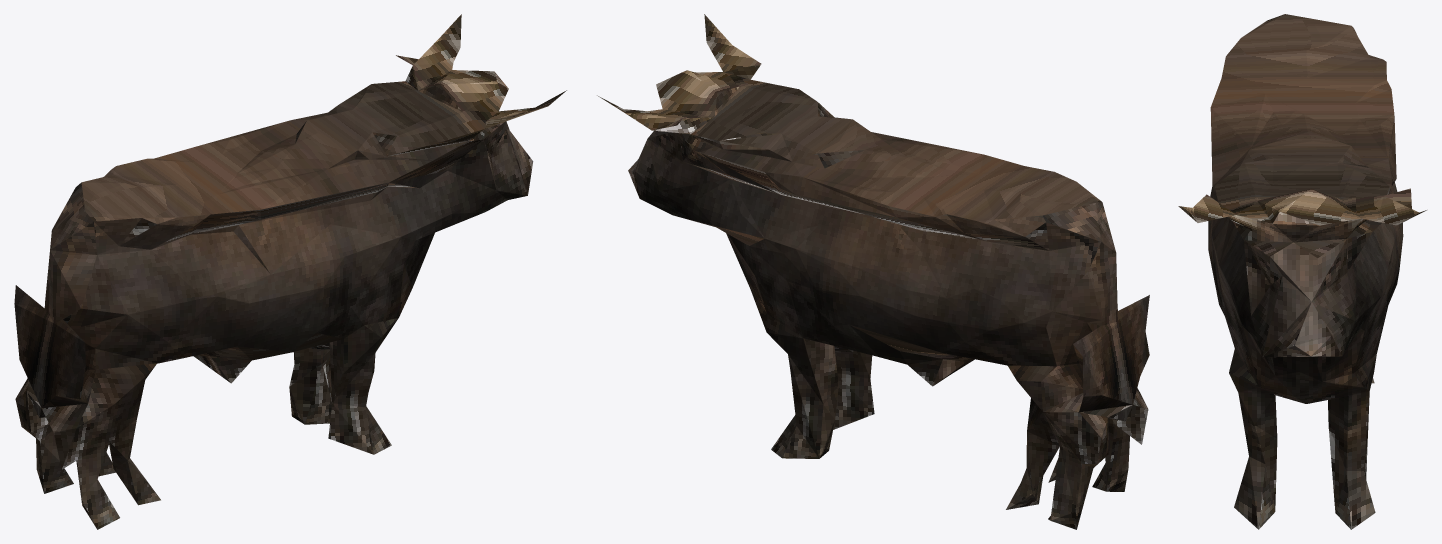
The model's file is animal.ganado.buey.glb.
3 renders of one model, left to right at view 1: azimuth 30°, elevation 25°; view 2: azimuth 150°, elevation 25°; view 3: azimuth 270°, elevation 25°, orthographic. The views are drawn at different scales.
Parts seen in each view (by area): view 1: animal.ganado.buey; view 2: animal.ganado.buey; view 3: animal.ganado.buey.
Boxes of the visible parts, left/top/right/bottom form: animal.ganado.buey: left=14, top=14, right=566, bottom=529; animal.ganado.buey: left=597, top=14, right=1149, bottom=529; animal.ganado.buey: left=1178, top=14, right=1426, bottom=529.
Bounding box in the file's own units: 3.15 × 2.12 × 1.17.
1 material, 1 textured.
